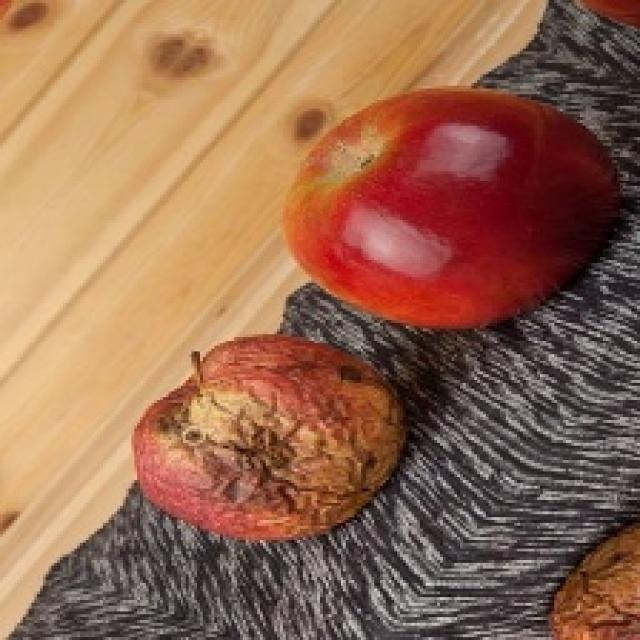rotten_apple: (138, 339, 400, 533)
